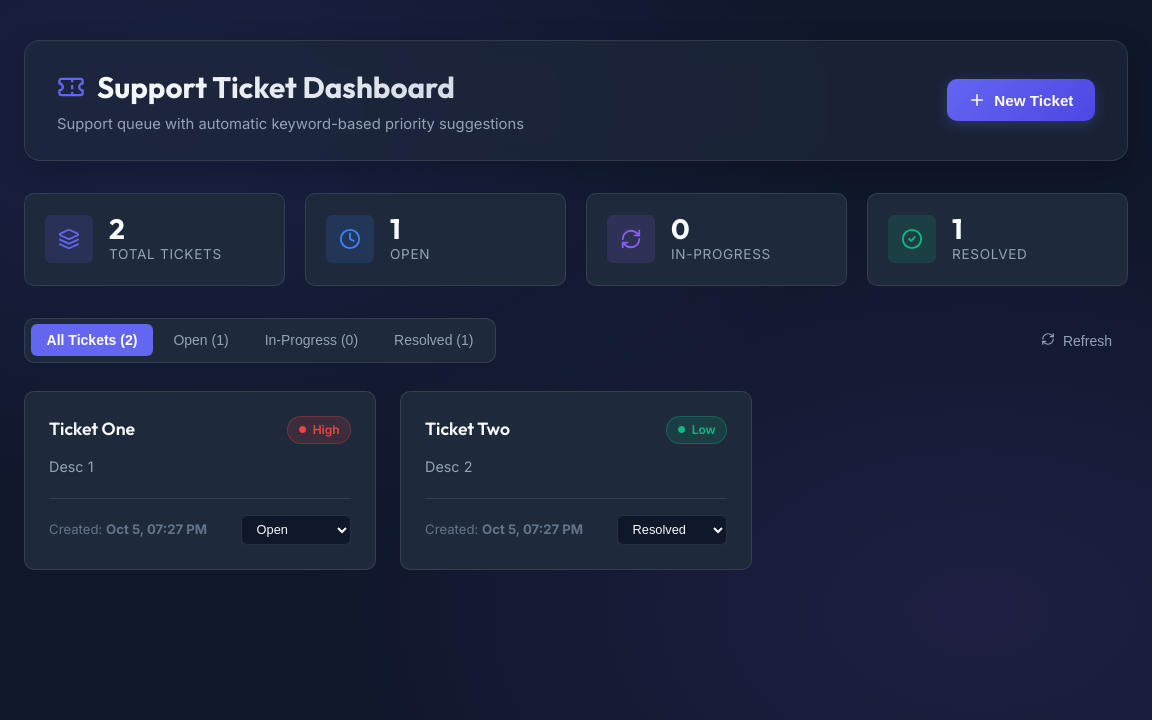
Test case: TicketDashboard Main View › should open new ticket modal when clicking "+ New Ticket" button
Step 1. Click the button "New Ticket" → (1021, 100), box [947,79,1095,121]
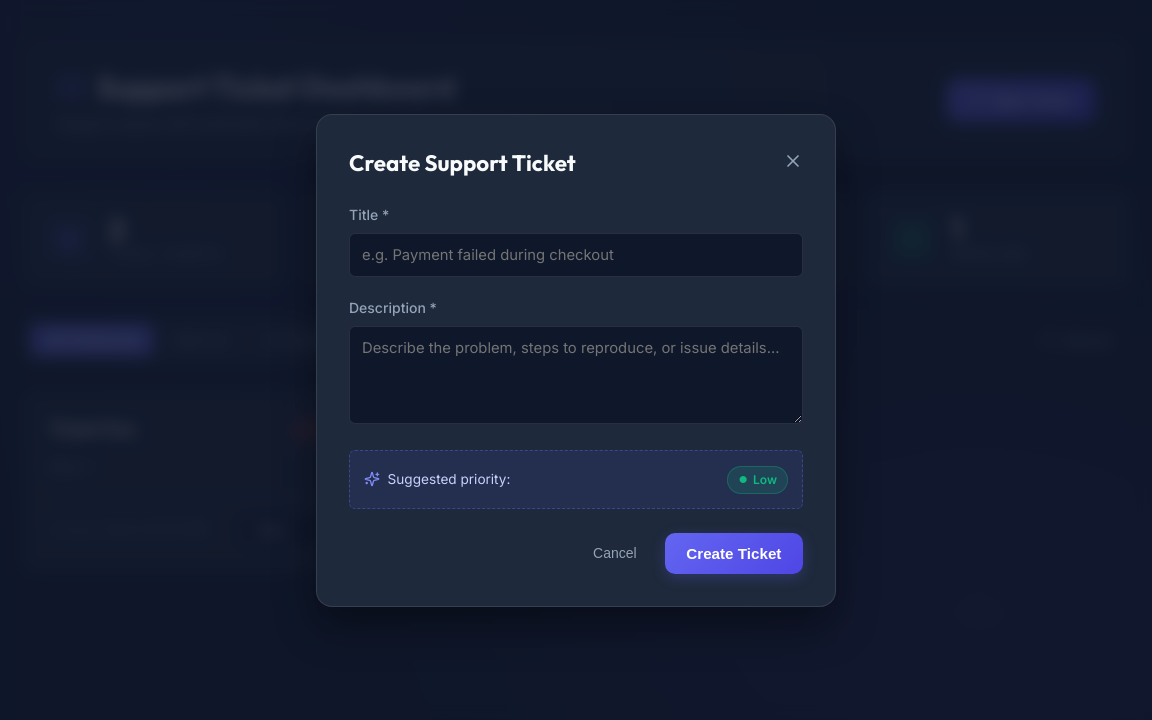
Expected: the heading "Create Support Ticket" is shown, [349,146,576,180]
